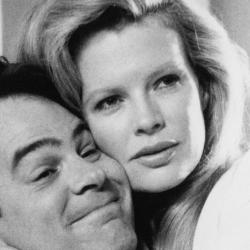face: (17, 1, 250, 191), (1, 57, 146, 249)
